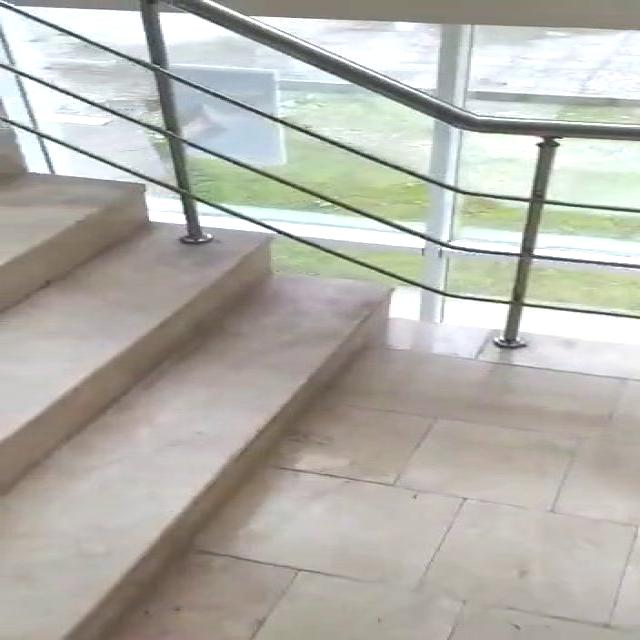stair: (1, 102, 439, 640)
